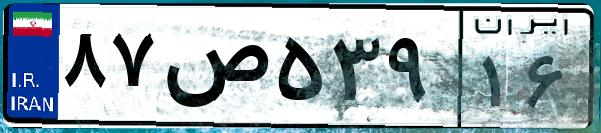1: (475, 38, 525, 113)
3: (330, 28, 385, 110)
5: (270, 28, 330, 110)
6: (525, 38, 570, 115)
7: (110, 28, 158, 98)
8: (57, 26, 110, 100)
9: (385, 28, 445, 110)
ص: (158, 20, 270, 120)
